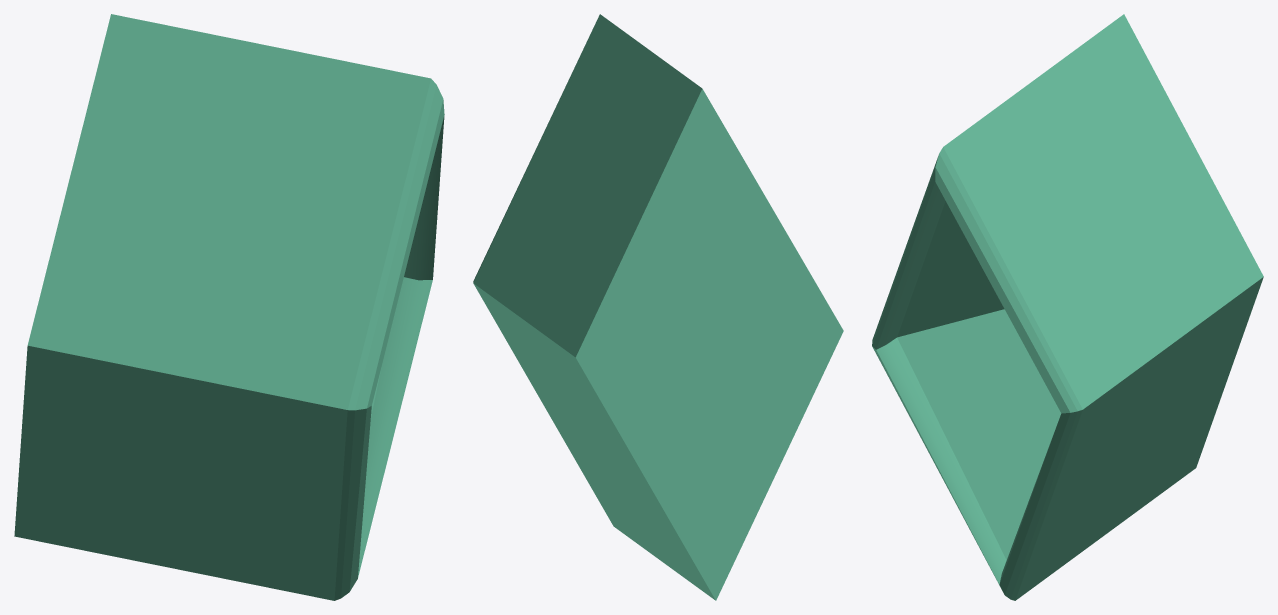
File: TR3_8shapes_Kite_Classic_Metal.001 2.glb
3 views of the same model, side by side, from view 1: azimuth 30°, elevation 25°; view 2: azimuth 150°, elevation 25°; view 3: azimuth 270°, elevation 25° (orthographic). The views are drawn at different scales.
Visible parts, largest first — view 1: TR3_8shapes_Kite_Classic_Metal.001; view 2: TR3_8shapes_Kite_Classic_Metal.001; view 3: TR3_8shapes_Kite_Classic_Metal.001.
Boxes of the visible parts, <box> form: TR3_8shapes_Kite_Classic_Metal.001: <box>14,14,444,600</box>; TR3_8shapes_Kite_Classic_Metal.001: <box>473,14,843,600</box>; TR3_8shapes_Kite_Classic_Metal.001: <box>872,14,1263,600</box>.
Bounding box in the file's own units: 0.5752 × 0.7795 × 0.5357.
